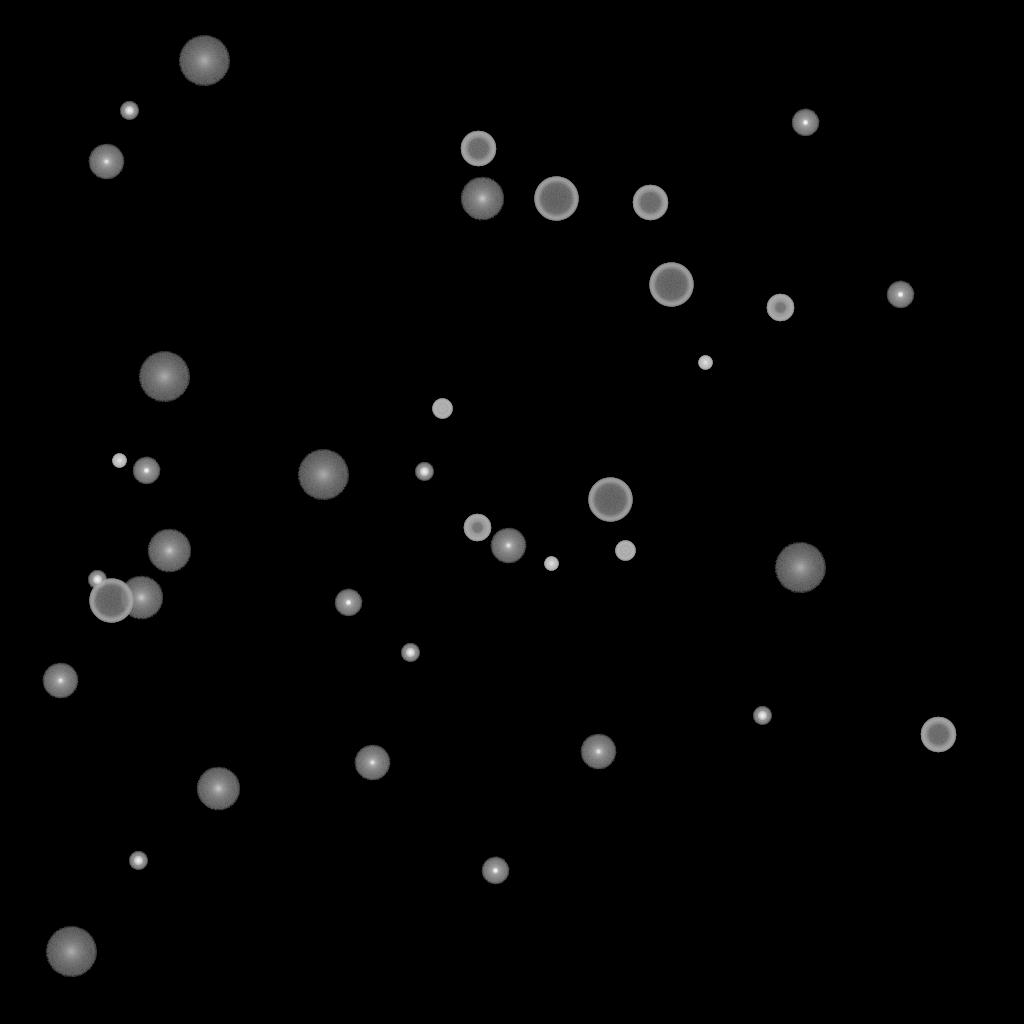depth:-10: (132, 457, 160, 485), (791, 109, 819, 137), (334, 589, 362, 617), (481, 857, 509, 885), (886, 281, 914, 309)
depth:-20: (401, 644, 419, 662), (120, 102, 138, 120), (753, 707, 771, 725), (129, 852, 147, 870), (88, 571, 106, 589), (415, 463, 433, 481)
depth:-30: (544, 557, 558, 571), (112, 454, 126, 468), (698, 356, 712, 370)
depth:-40: (615, 541, 635, 561), (432, 399, 452, 419)
depth:-50: (463, 514, 491, 542), (766, 294, 794, 322)
depth:-60: (460, 131, 496, 167), (632, 185, 668, 221), (920, 717, 956, 753)
depth:-70: (649, 263, 693, 307), (89, 579, 133, 623), (588, 478, 632, 522), (534, 177, 578, 221)
depth:0: (88, 144, 124, 180), (42, 663, 78, 699), (354, 745, 390, 781), (580, 734, 616, 770), (490, 528, 526, 564)
depth:10: (119, 576, 163, 620), (460, 177, 504, 221), (196, 767, 240, 811), (147, 529, 191, 573)
depth:20: (178, 36, 230, 86), (45, 927, 97, 977), (774, 543, 826, 593), (138, 352, 190, 402), (297, 450, 349, 500)
